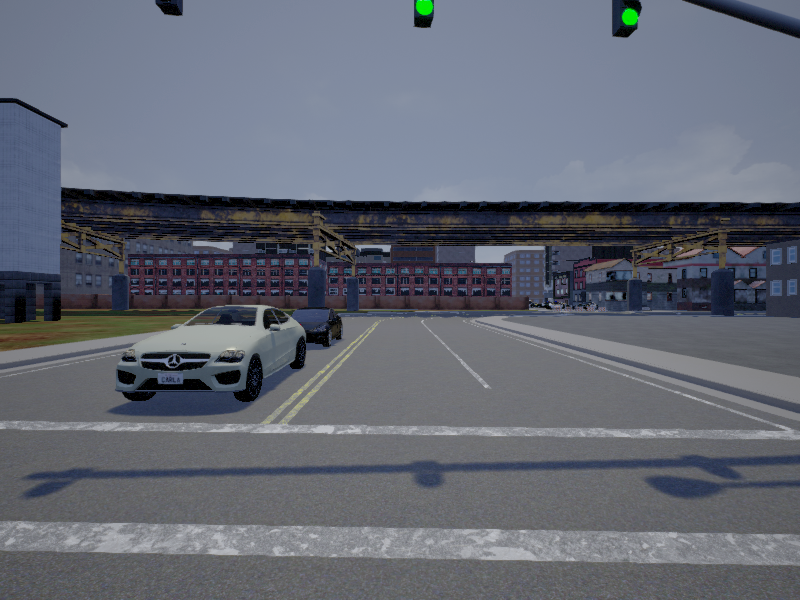Benign: (117, 304, 307, 402), (292, 309, 342, 348)
